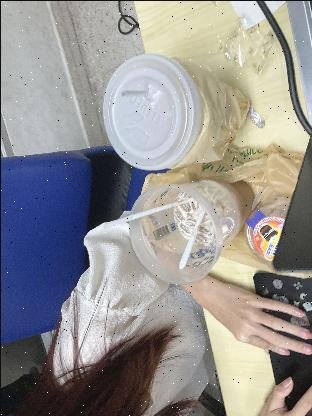Others: (138, 146, 312, 280), (127, 175, 255, 285), (104, 51, 198, 172), (161, 54, 249, 170), (246, 196, 296, 268), (216, 14, 274, 76), (102, 195, 194, 229), (178, 198, 207, 268), (226, 0, 292, 30), (242, 104, 266, 130), (117, 83, 151, 101)
